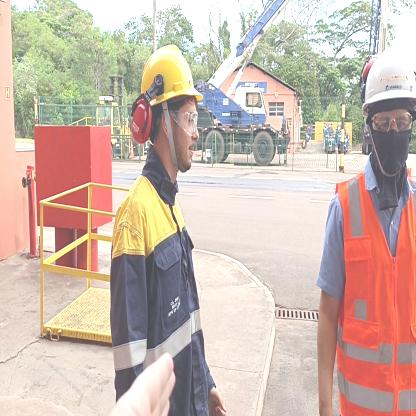Balaclava: (363, 106, 416, 205)
C_eletrica: (110, 179, 232, 416)
Capacete: (134, 49, 204, 102), (360, 48, 414, 107)
colete: (322, 174, 416, 416)
